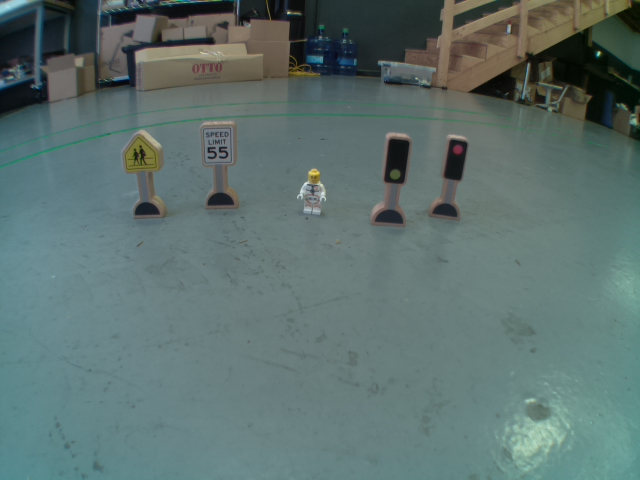Green Traffic Light: (384, 133, 409, 186)
Red Traffic Light: (441, 135, 471, 184)
Speed Limit 55: (201, 120, 235, 168)
YIELD: (116, 129, 164, 174)
person: (295, 165, 333, 219)
